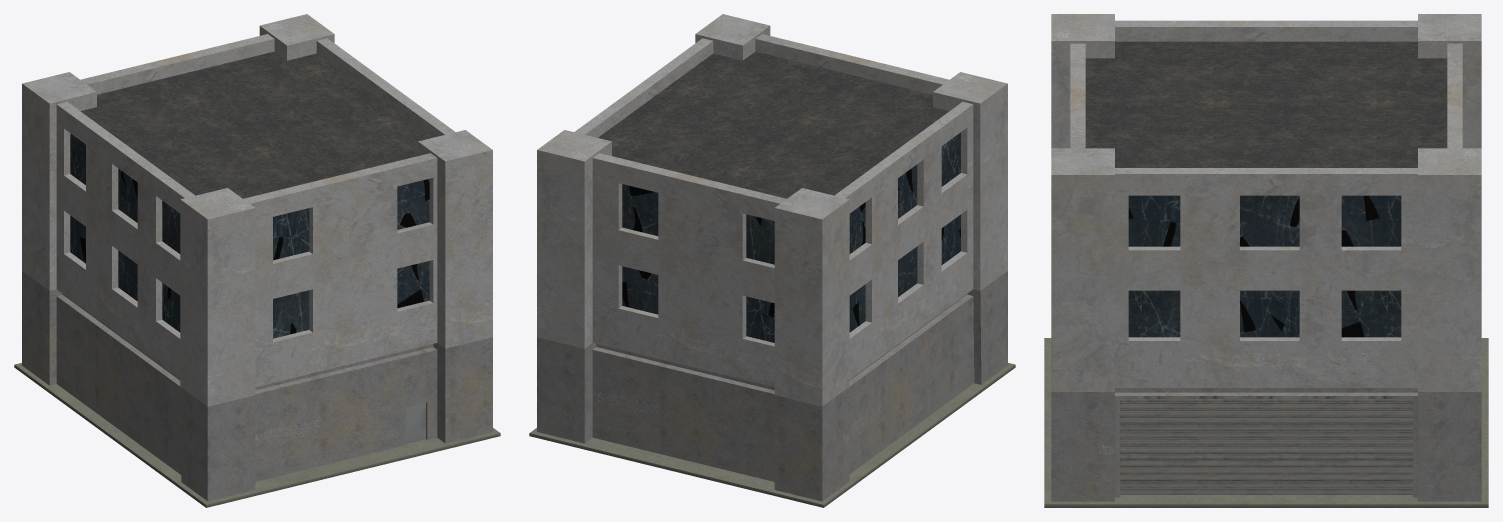
File: City09.obj
The picture shows the model from 3 angles, left to right: view 1: azimuth 30°, elevation 25°; view 2: azimuth 150°, elevation 25°; view 3: azimuth 270°, elevation 25°; orthographic projection. The views are drawn at different scales.
Visible parts, largest first — view 1: City09; view 2: City09; view 3: City09.
Part boxes in pixels (x1,y1,x2,y2): City09: (14,14,500,507); City09: (529,14,1015,507); City09: (1044,14,1488,507).
Size of the model in its own units: 15.44 by 14.29 by 17.42.
Materials: 8 (8 with a texture image).
